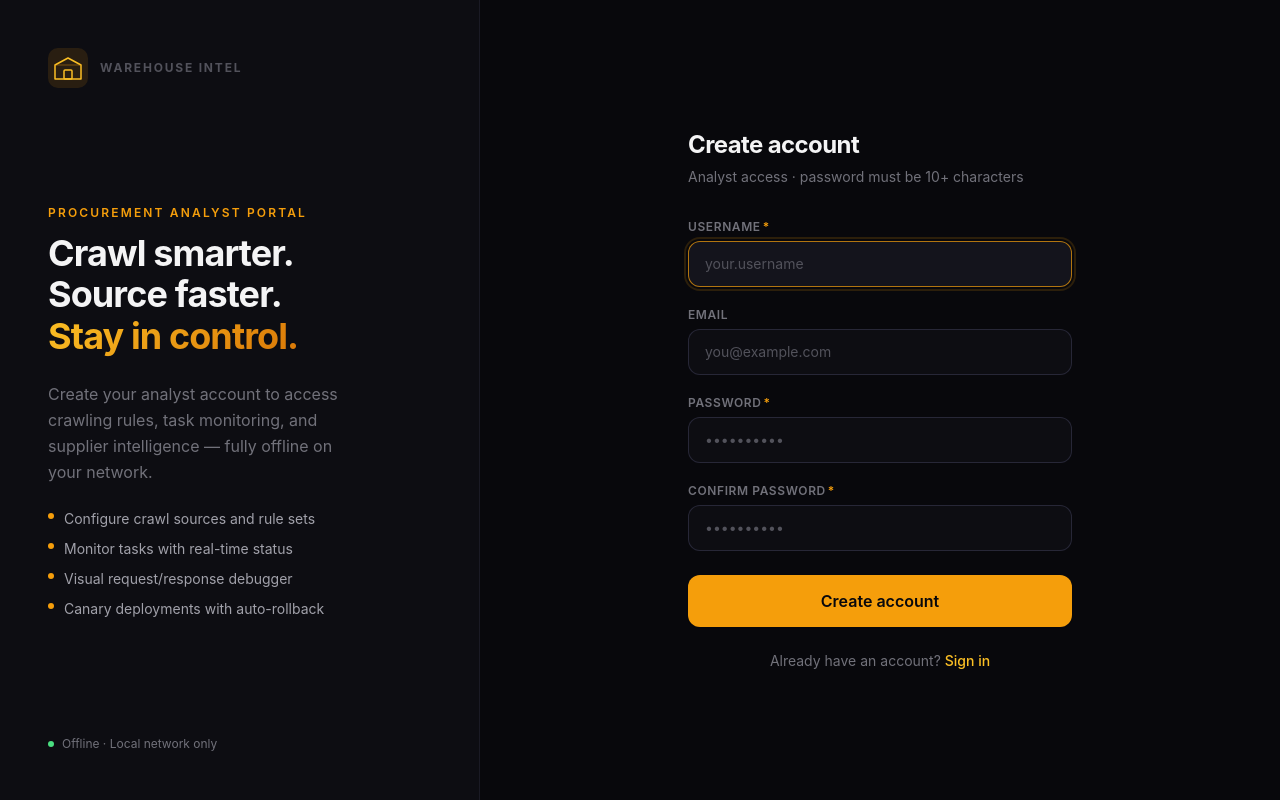
it: RegisterPage — client-side validation › shows error when passwords do not match
Type "newanalyst" into the field labelled "Username*" at (880, 264), box [688,241,1072,287]
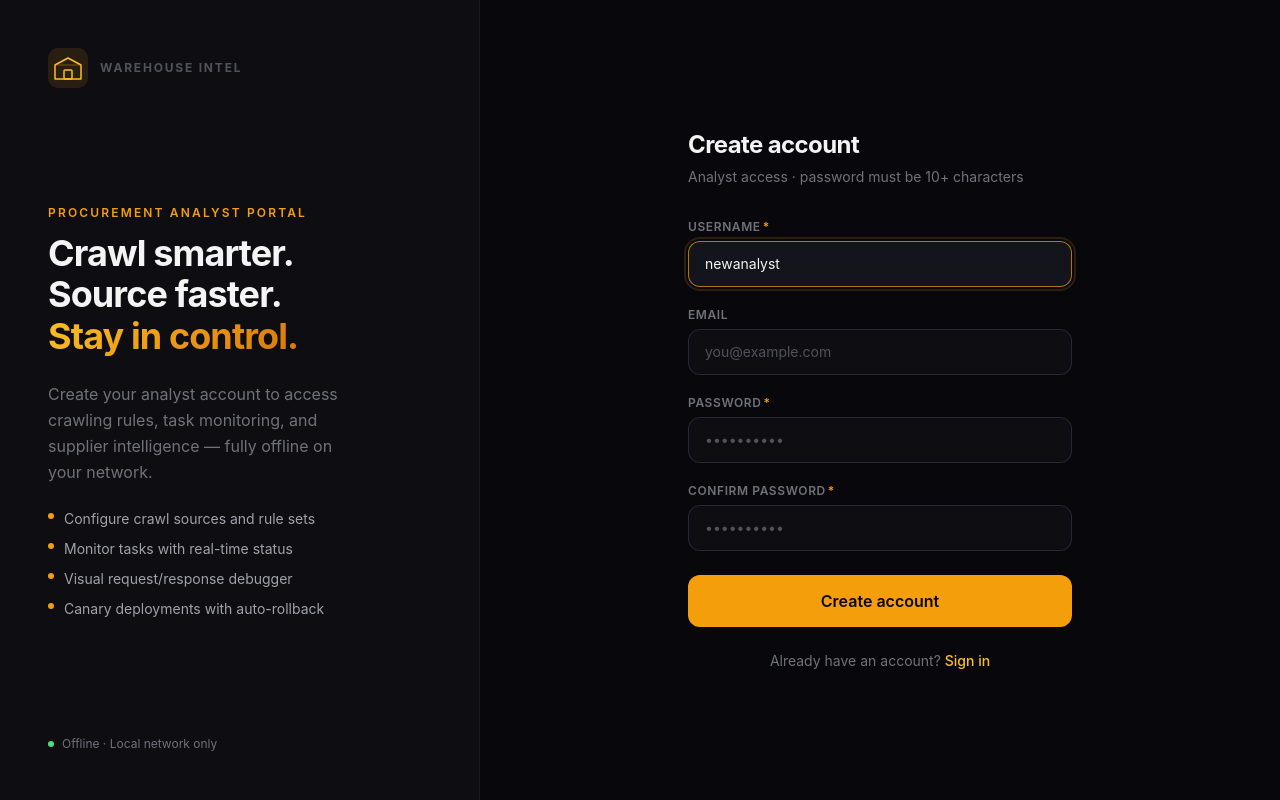
Type "Str0ng!Pass1" into the password field labelled "Password*" at (880, 440), box [688,417,1072,463]
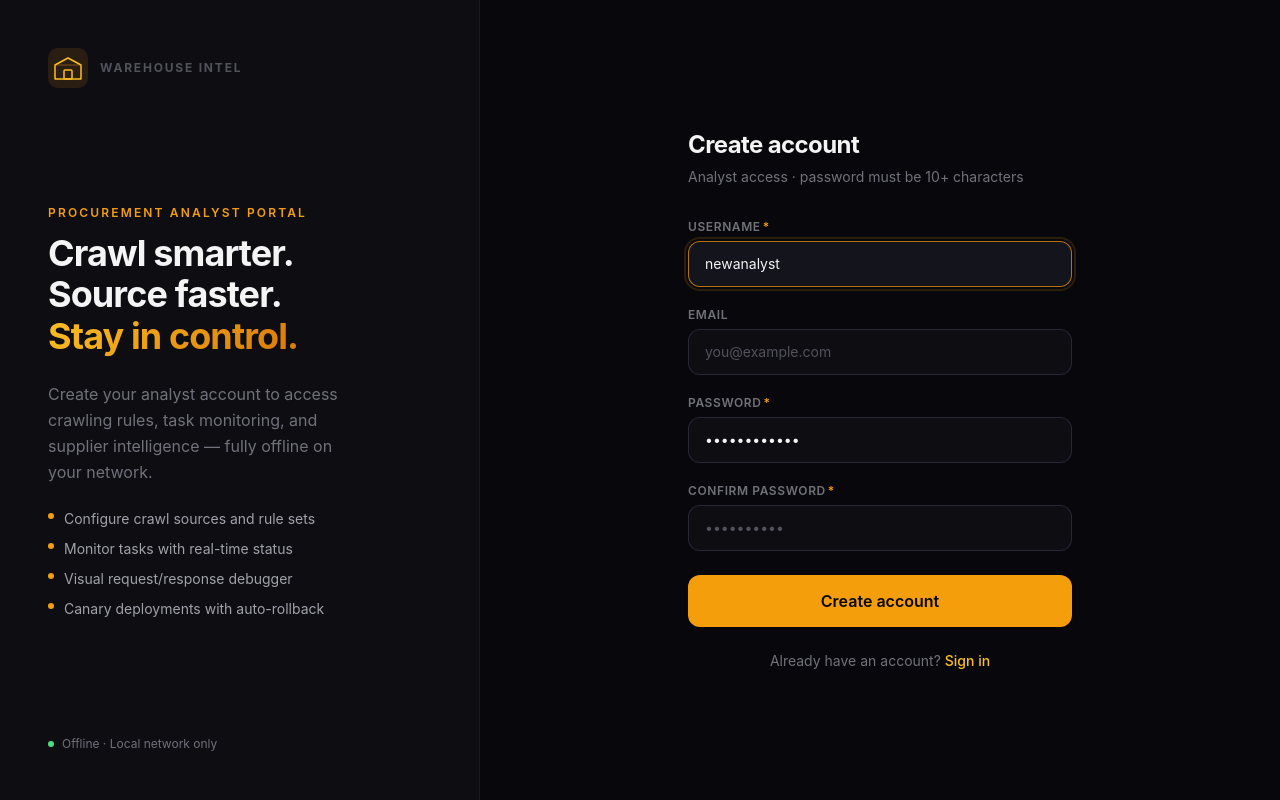
Type "DifferentPass1!" into the password field labelled "Confirm Password*" at (880, 528), box [688,505,1072,551]
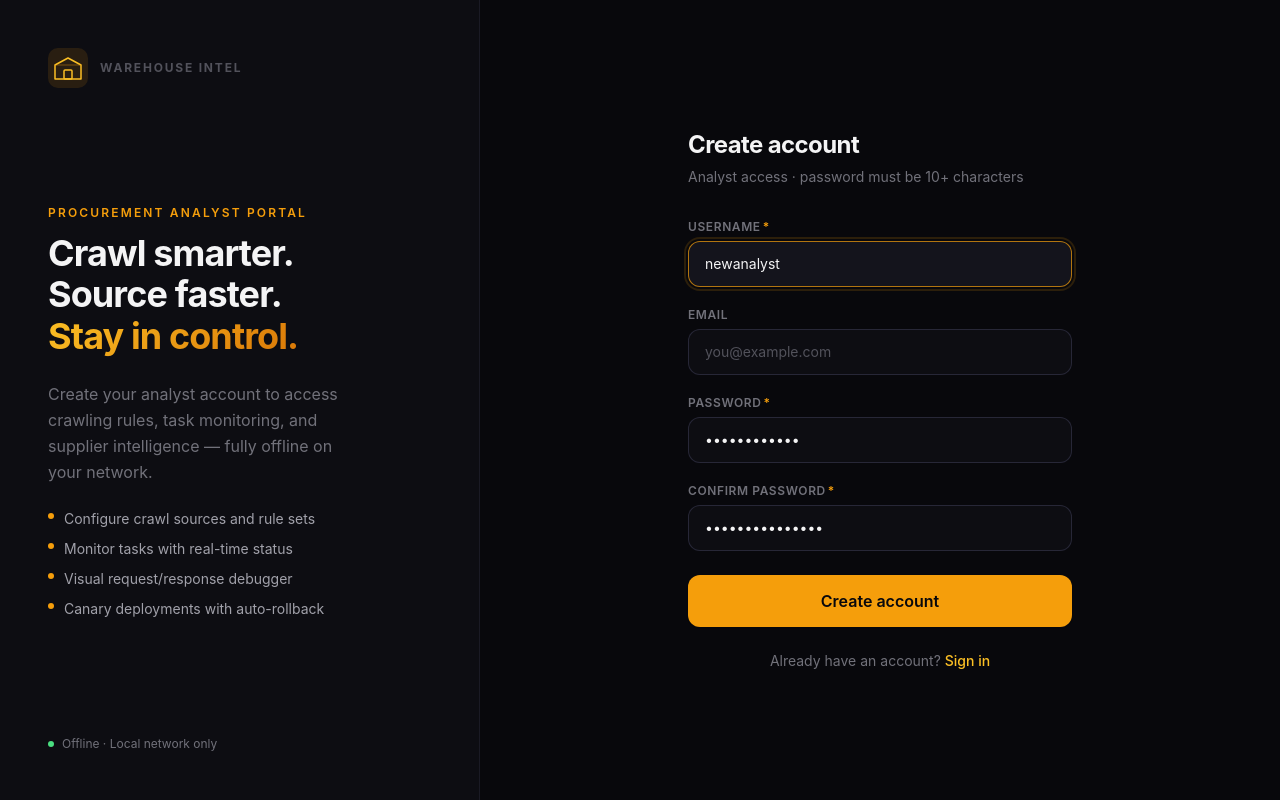
Submit the form "Username* Email Password* Confirm Password* Create account", box [688,219,1072,627]
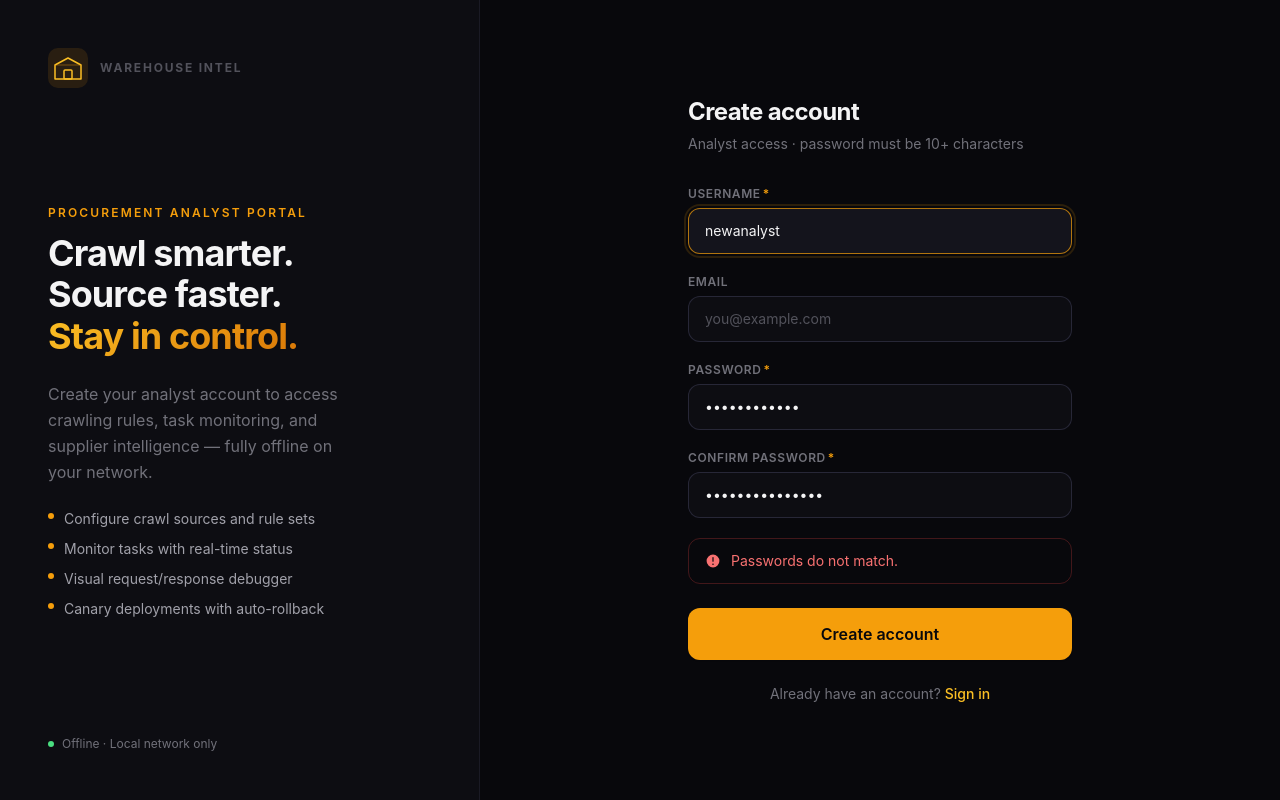
Check: the text "Passwords do not match." is shown, box [731,551,898,571]
